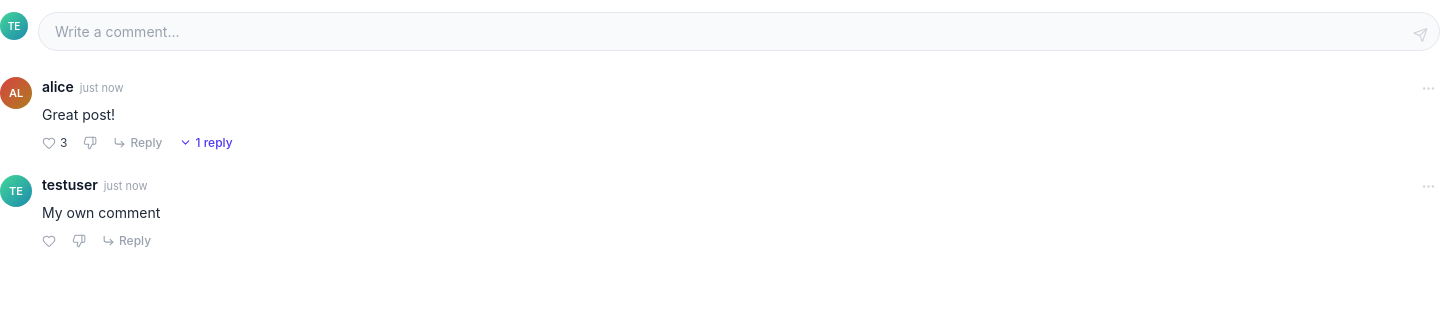
CommentSection › shows Edit and Delete in menu for own comment
Check: the text "My own comment" is shown, box [42,204,160,221]
Note: Click the menu for own comment (second one)
Click the button named "More options" in the row of "testuser" at [1428, 186], box [1417,175,1440,198]
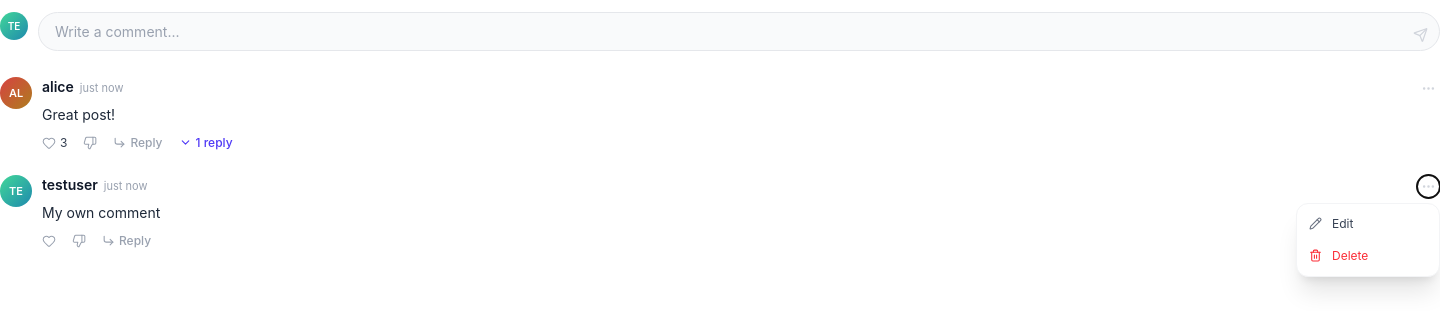
Check: the button "Edit" is shown, box [1297,208,1439,240]
Check: the button "Delete" is shown, box [1297,240,1439,272]
